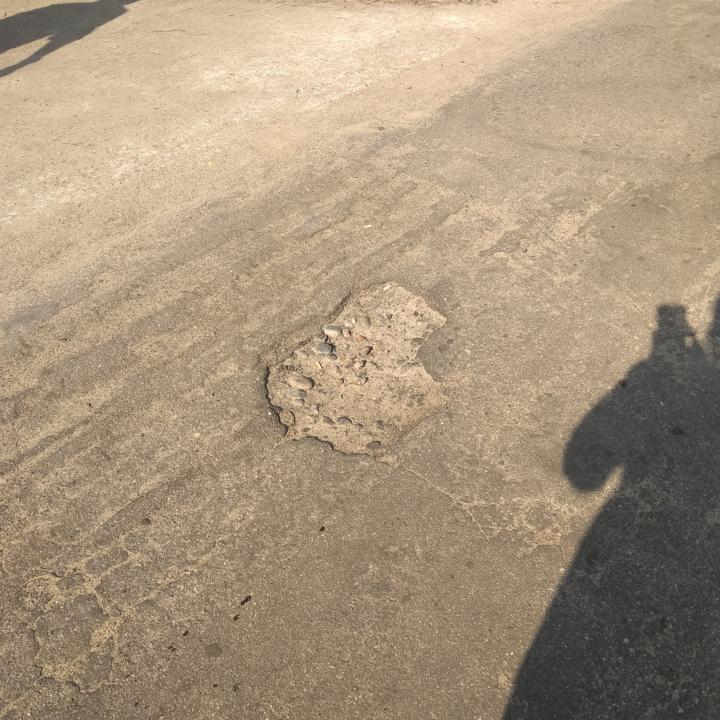pothole: (258, 279, 452, 460)
